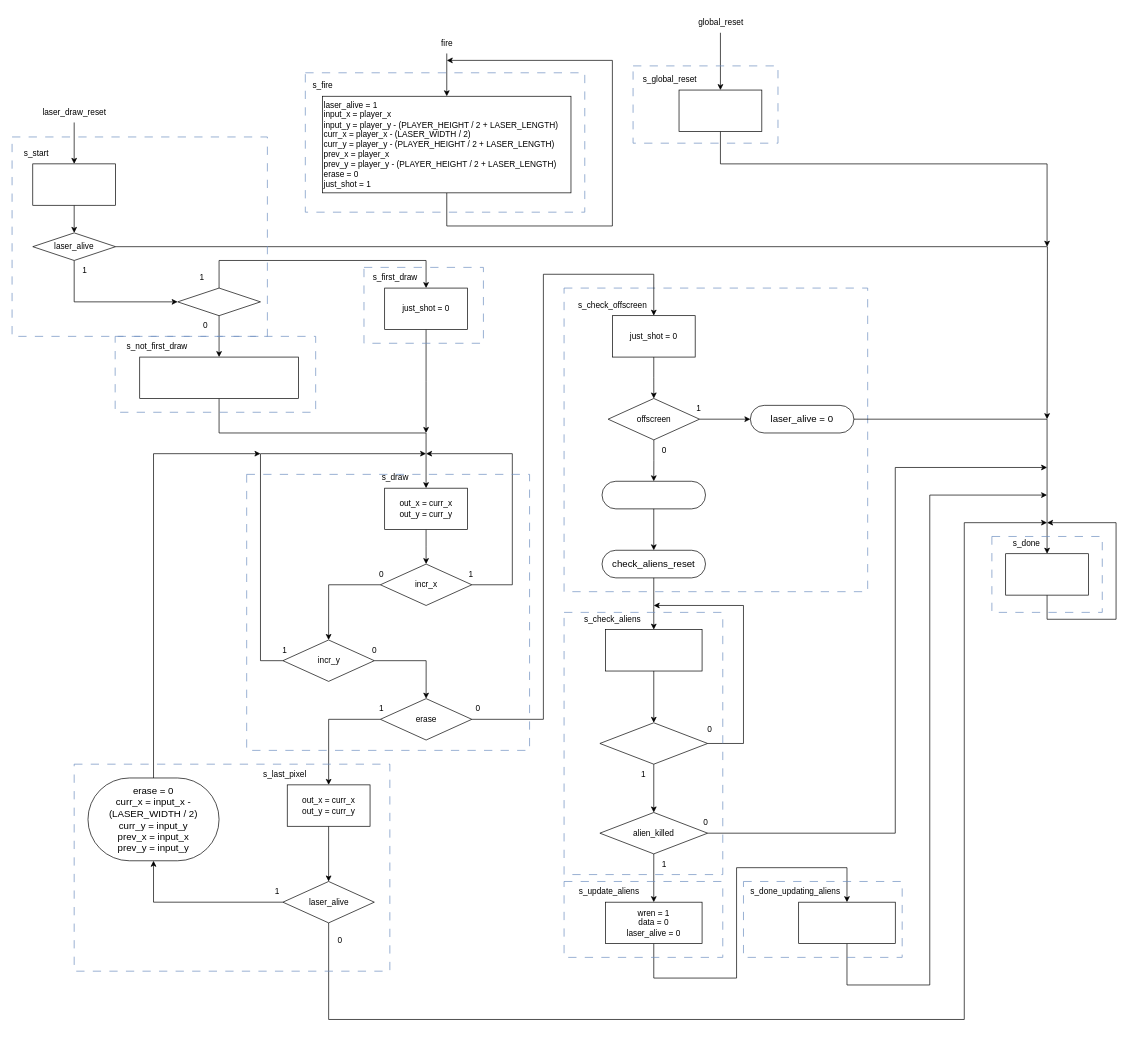
This 1134x1037 diagram has some shape labels left out. The shapes that lost their labels are listed below. From the top down, each one's centre as x and y in pixels, then its label:
At point 720,110: "laser_alive = 0 laser_done = 1 just_shot = 0".
At point 218,301: "just_shot".
At point 218,377: "erase = 1 curr_x = prev_x - (LASER_WIDTH / 2) curr_y = prev_y".
At point 653,495: "input_y = input_y - 5".
At point 1046,574: "laser_done".
At point 653,650: "check_aliens_reset = 0".
At point 653,743: "check_aliens_done".
At point 846,922: "wren = 0".
